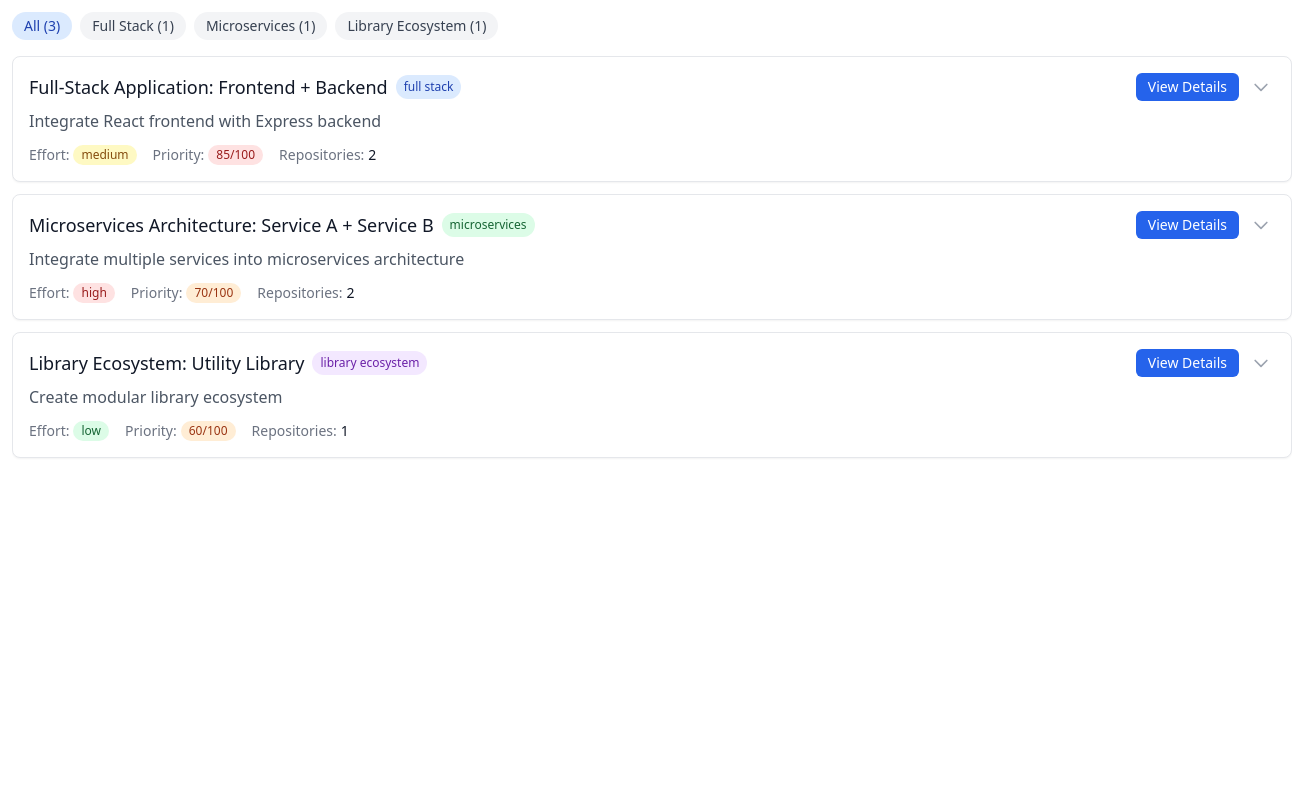
Scenario: IntegrationOpportunities › should expand opportunity details when clicked
Check: the text "Benefits" is not shown
Check: the text "Challenges" is not shown
Click the 1st button named "Expand opportunity" at (1261, 87), box [1247,73,1275,101]
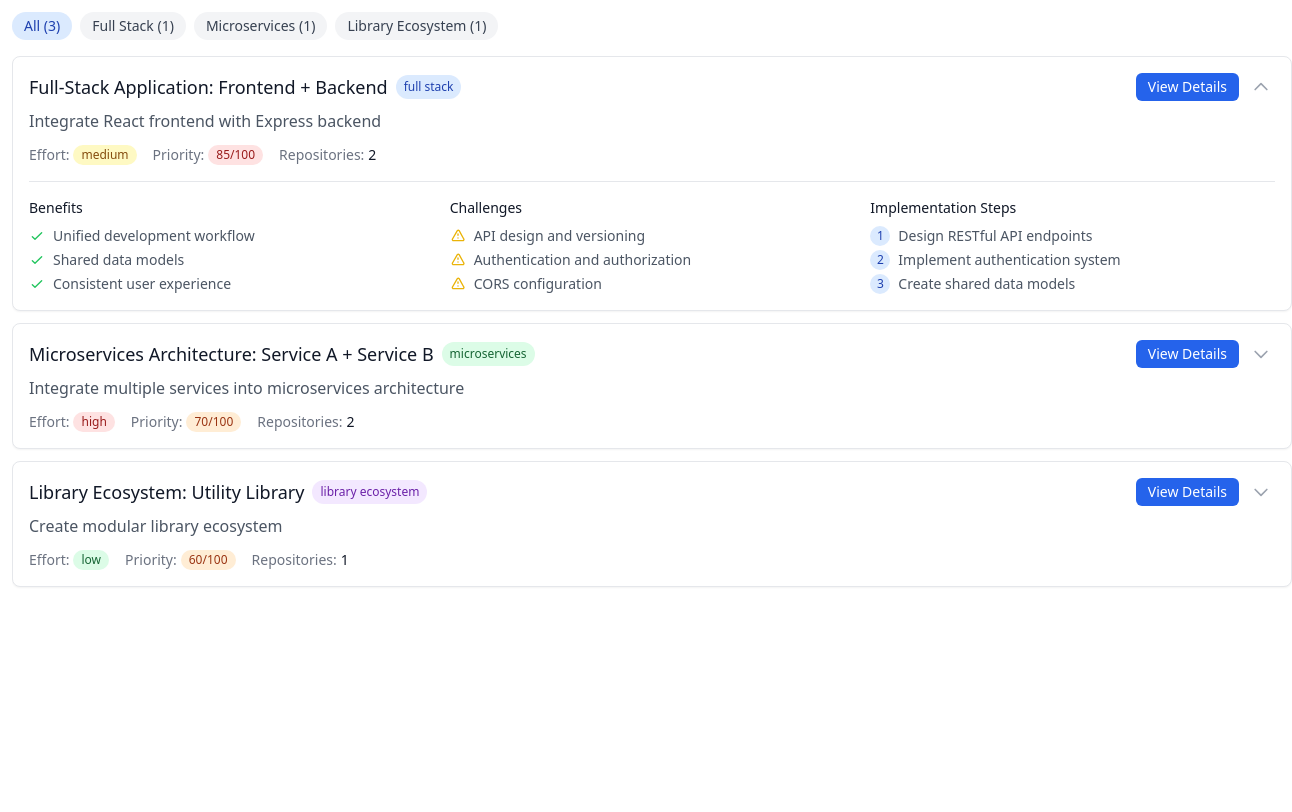
Check: the heading "Benefits" is shown, box [29,198,83,217]
Check: the heading "Challenges" is shown, box [450,198,522,217]
Check: the heading "Implementation Steps" is shown, box [870,198,1016,217]
